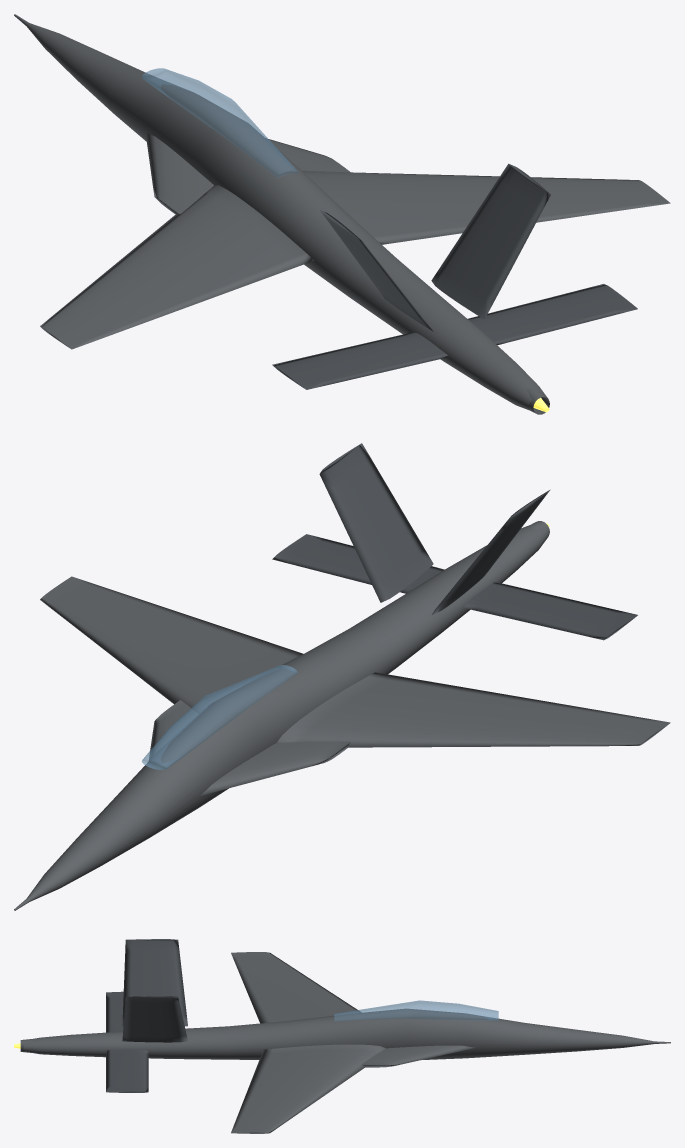
The model's file is dagger-dart.glb.
The picture shows the model from 3 angles, top to bottom: view 1: azimuth 30°, elevation 25°; view 2: azimuth 150°, elevation 25°; view 3: azimuth 270°, elevation 25°; orthographic projection. The views are drawn at different scales.
Visible parts, largest first — view 1: DartBody, DartControl, DartCanopy; view 2: DartBody, DartControl, DartCanopy; view 3: DartBody, DartControl, DartCanopy.
Boxes of the visible parts, left/top/right/bottom form: DartBody: left=14, top=14, right=670, bottom=414; DartControl: left=272, top=163, right=637, bottom=389; DartCanopy: left=142, top=68, right=297, bottom=177; DartBody: left=14, top=521, right=670, bottom=910; DartControl: left=272, top=443, right=637, bottom=640; DartCanopy: left=142, top=665, right=297, bottom=769; DartBody: left=20, top=952, right=670, bottom=1133; DartControl: left=106, top=939, right=187, bottom=1092; DartCanopy: left=334, top=1000, right=498, bottom=1021.
Size of the model in its own units: 13 by 3.05 by 20.
